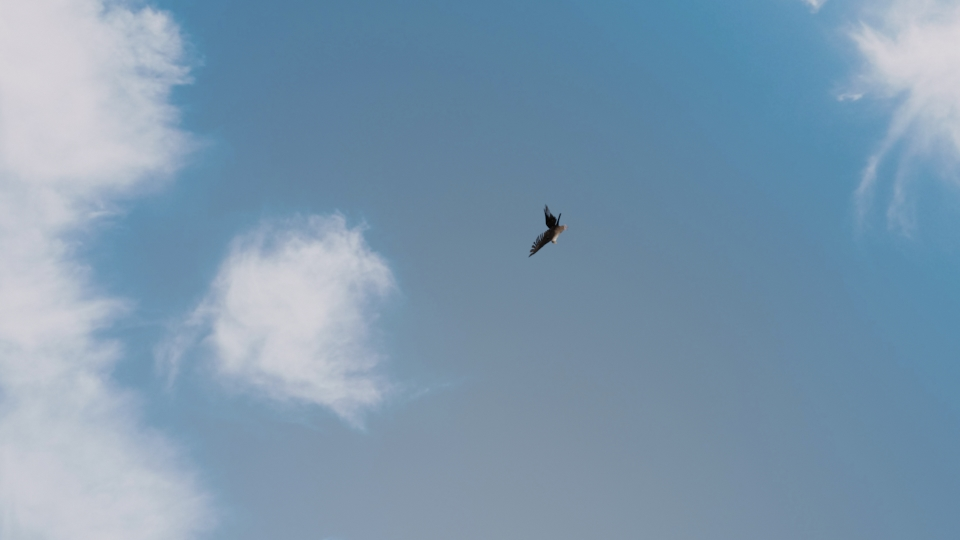bird: (527, 204, 566, 258)
